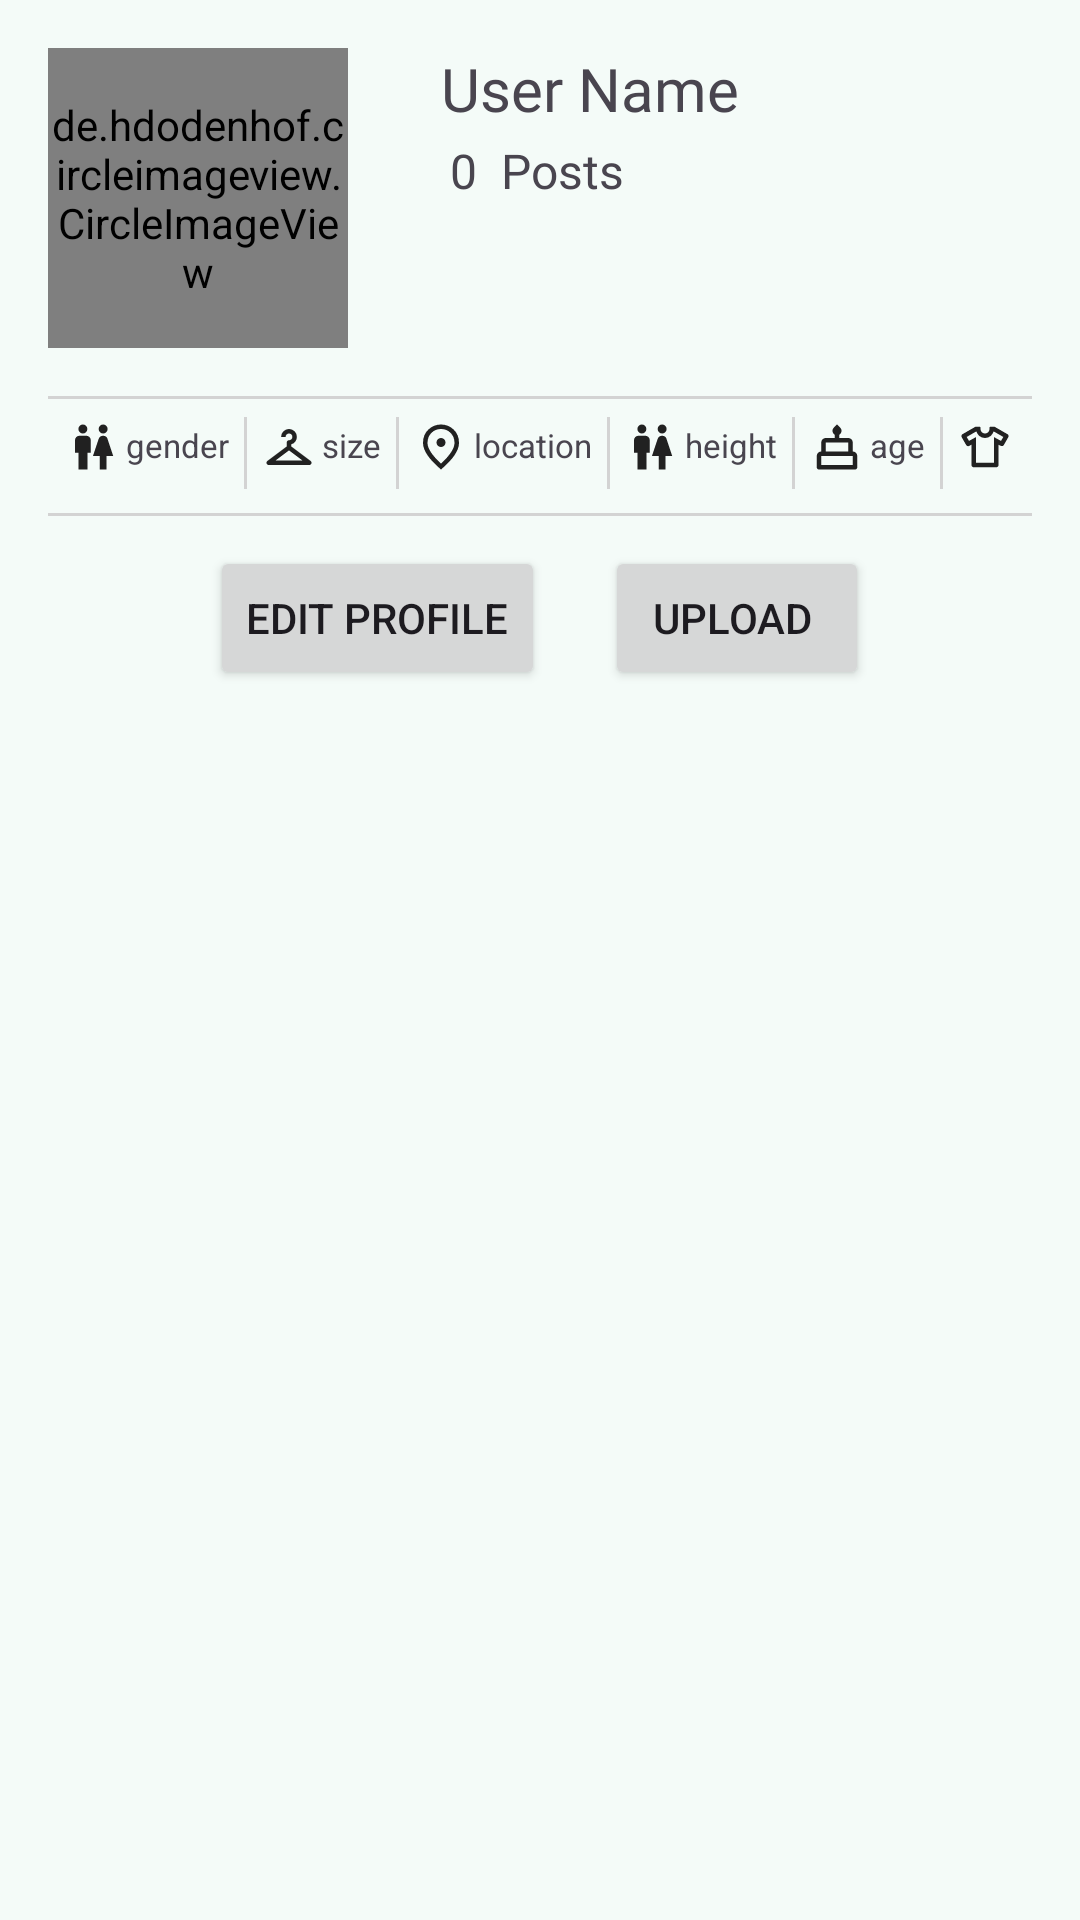

Where icons sit on this 1080w x 1920h app screen, as BBox(x1, y1, x2, y2):
cake: BBox(816, 424, 858, 470)
clothes: BBox(961, 426, 1009, 468)
hanger: BBox(266, 429, 312, 465)
